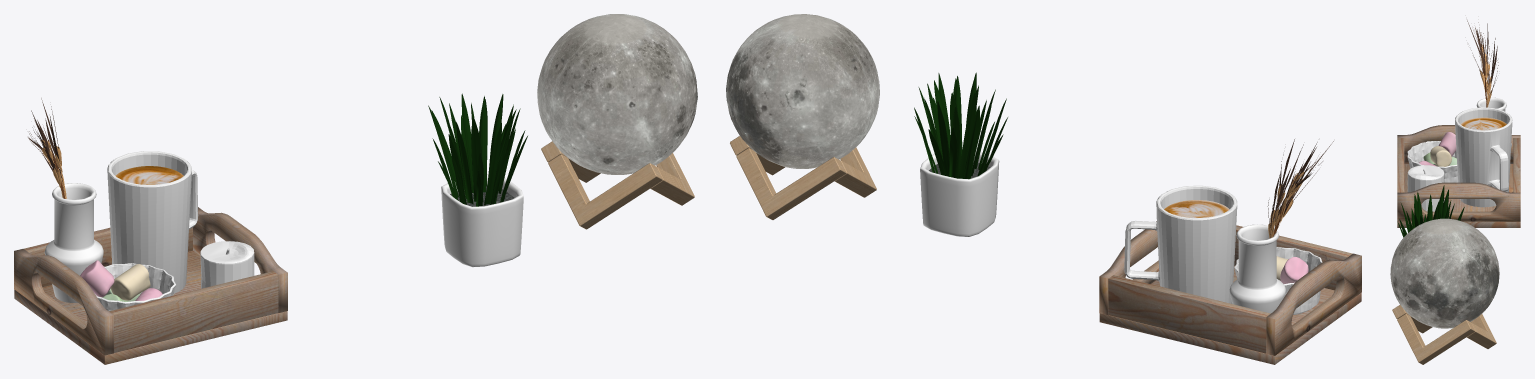
The model's file is Accessories.glb.
3 views of the same model, side by side, from view 1: azimuth 30°, elevation 25°; view 2: azimuth 150°, elevation 25°; view 3: azimuth 270°, elevation 25° (orthographic). The views are drawn at different scales.
Parts seen in each view (by area): view 1: Sphere, Plane, Circle.002, Plane.025, Cube, Stand, Circle, Cylinder.005, Cylinder.006, Circle.003, Cube.005, Circle.004; view 2: Sphere, Plane, Circle.002, Plane.025, Cube, Stand, Circle, Cube.005, Circle.003, Circle.004, Cylinder.006; view 3: Sphere, Plane, Circle.002, Stand, Plane.025, Cylinder.005, Cube.005, Cylinder.006, Circle.003, Circle.004, Circle.
Boxes of the visible parts, box(x1,y1,x2,y2) form: Sphere: box(537, 14, 697, 174); Plane: box(14, 207, 287, 364); Circle.002: box(107, 151, 198, 293); Plane.025: box(428, 93, 527, 206); Cube: box(441, 174, 523, 267); Stand: box(541, 141, 694, 229); Circle: box(44, 183, 103, 302); Cylinder.005: box(200, 241, 254, 288); Cylinder.006: box(80, 260, 162, 301); Circle.003: box(95, 263, 175, 311); Cube.005: box(28, 98, 66, 198); Circle.004: box(115, 166, 183, 184); Sphere: box(726, 14, 879, 168); Plane: box(1099, 221, 1361, 364); Circle.002: box(1124, 185, 1237, 303); Plane.025: box(914, 72, 1007, 179); Cube: box(920, 148, 999, 236); Stand: box(730, 136, 876, 219); Circle: box(1229, 224, 1285, 313); Cube.005: box(1267, 139, 1333, 238); Circle.003: box(1234, 247, 1322, 314); Circle.004: box(1164, 200, 1229, 217); Cylinder.006: box(1276, 256, 1308, 283); Sphere: box(1390, 218, 1499, 328); Plane: box(1397, 125, 1520, 227); Circle.002: box(1455, 107, 1512, 207); Stand: box(1392, 305, 1496, 364); Plane.025: box(1397, 185, 1464, 237); Cylinder.005: box(1407, 165, 1444, 211); Cube.005: box(1467, 20, 1498, 107); Cylinder.006: box(1419, 132, 1456, 166); Circle.003: box(1407, 141, 1457, 182); Circle.004: box(1460, 117, 1506, 130); Circle: box(1476, 97, 1511, 147).
Size of the model in its own units: 0.7027 by 0.2298 by 0.1811.
Materials: 14 (7 with a texture image).
